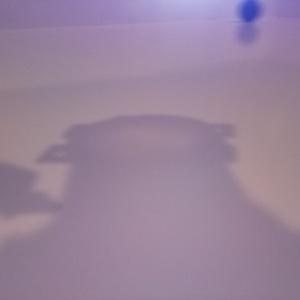dead_ball: (238, 1, 262, 22)
